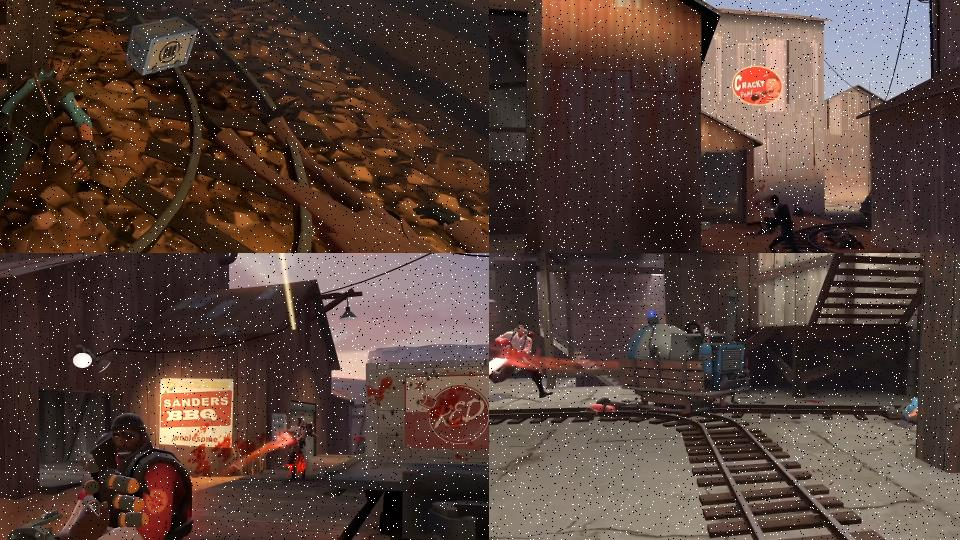Enemy: (0, 410, 196, 540), (0, 51, 101, 253), (109, 0, 229, 50), (489, 322, 553, 399), (755, 191, 824, 253), (277, 416, 321, 481), (583, 399, 654, 416), (882, 394, 920, 423), (887, 241, 948, 253)
